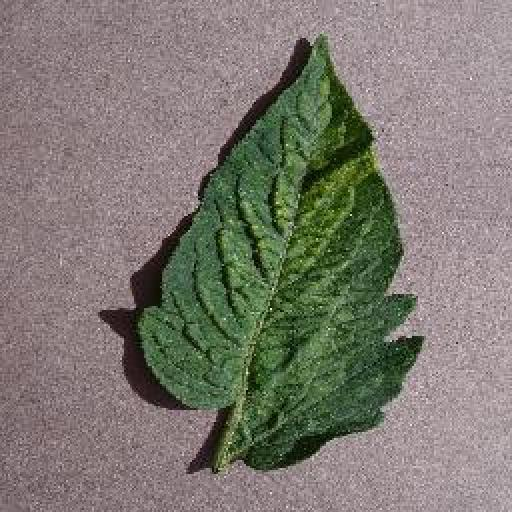Spider Mites: (138, 28, 426, 469)
